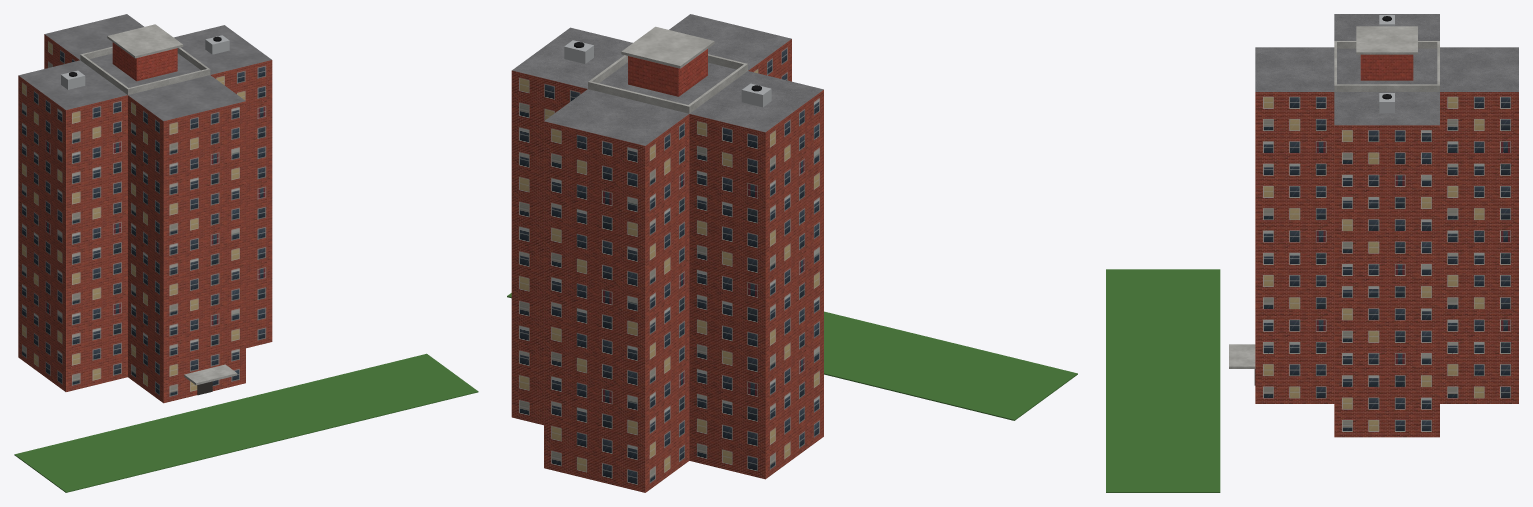
The model's file is 023_project_cross_tower.glb.
3 views of the same model, side by side, from view 1: azimuth 30°, elevation 25°; view 2: azimuth 150°, elevation 25°; view 3: azimuth 270°, elevation 25° (orthographic). The views are drawn at different scales.
Parts seen in each view (by area): view 1: 023_project_cross_tower; view 2: 023_project_cross_tower; view 3: 023_project_cross_tower.
Boxes of the visible parts, bbox=[...] form: 023_project_cross_tower: bbox=[14, 14, 478, 492]; 023_project_cross_tower: bbox=[507, 14, 1077, 492]; 023_project_cross_tower: bbox=[1106, 14, 1518, 492].
Bounding box in the file's own units: 60 × 43 × 47.
Materials: 8 (4 with a texture image).
